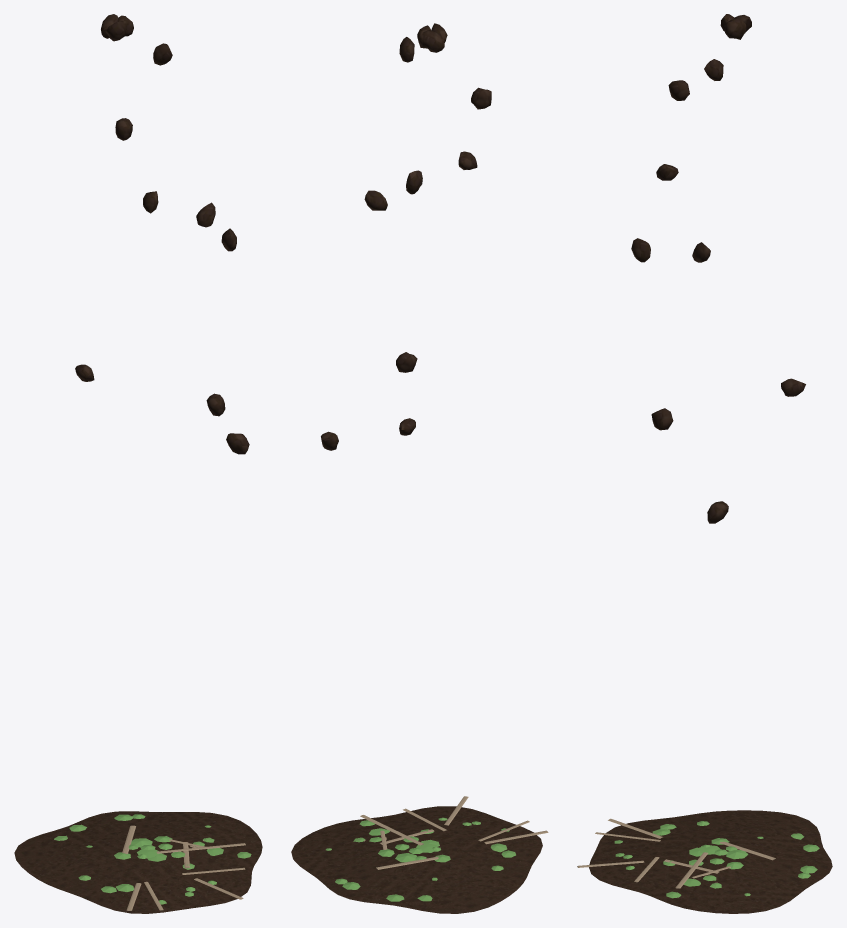
Rendered from TER-LIM-001_anim.glb.
3 renders of one model, left to right at view 1: azimuth 30°, elevation 25°; view 2: azimuth 150°, elevation 25°; view 3: azimuth 270°, elevation 25°, orthographic.
Visible parts, largest first — view 1: TER-LIM-001_anim_monte; view 2: TER-LIM-001_anim_monte; view 3: TER-LIM-001_anim_monte.
Part boxes in pixels (bbox=[...]): TER-LIM-001_anim_monte: bbox=[14, 811, 262, 913]; TER-LIM-001_anim_monte: bbox=[291, 796, 548, 913]; TER-LIM-001_anim_monte: bbox=[577, 810, 832, 913].
Size of the model in its own units: 0.4037 by 1.52 by 0.4203.
Materials: 3 (1 with a texture image).
